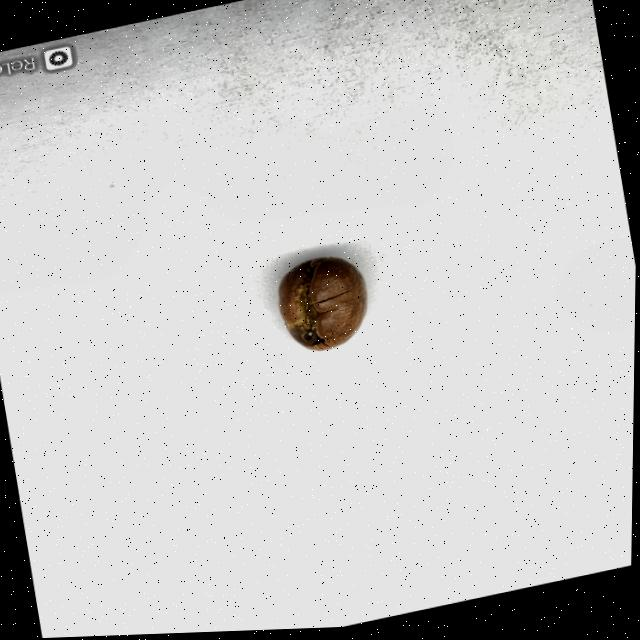Insect damage: (273, 251, 377, 361)
